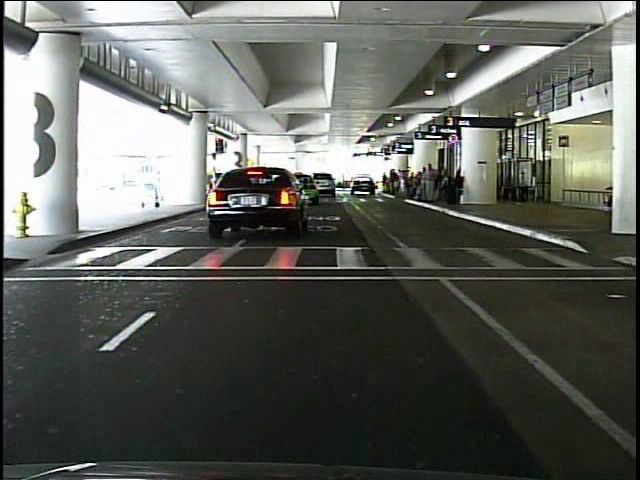person: (421, 159, 441, 208)
